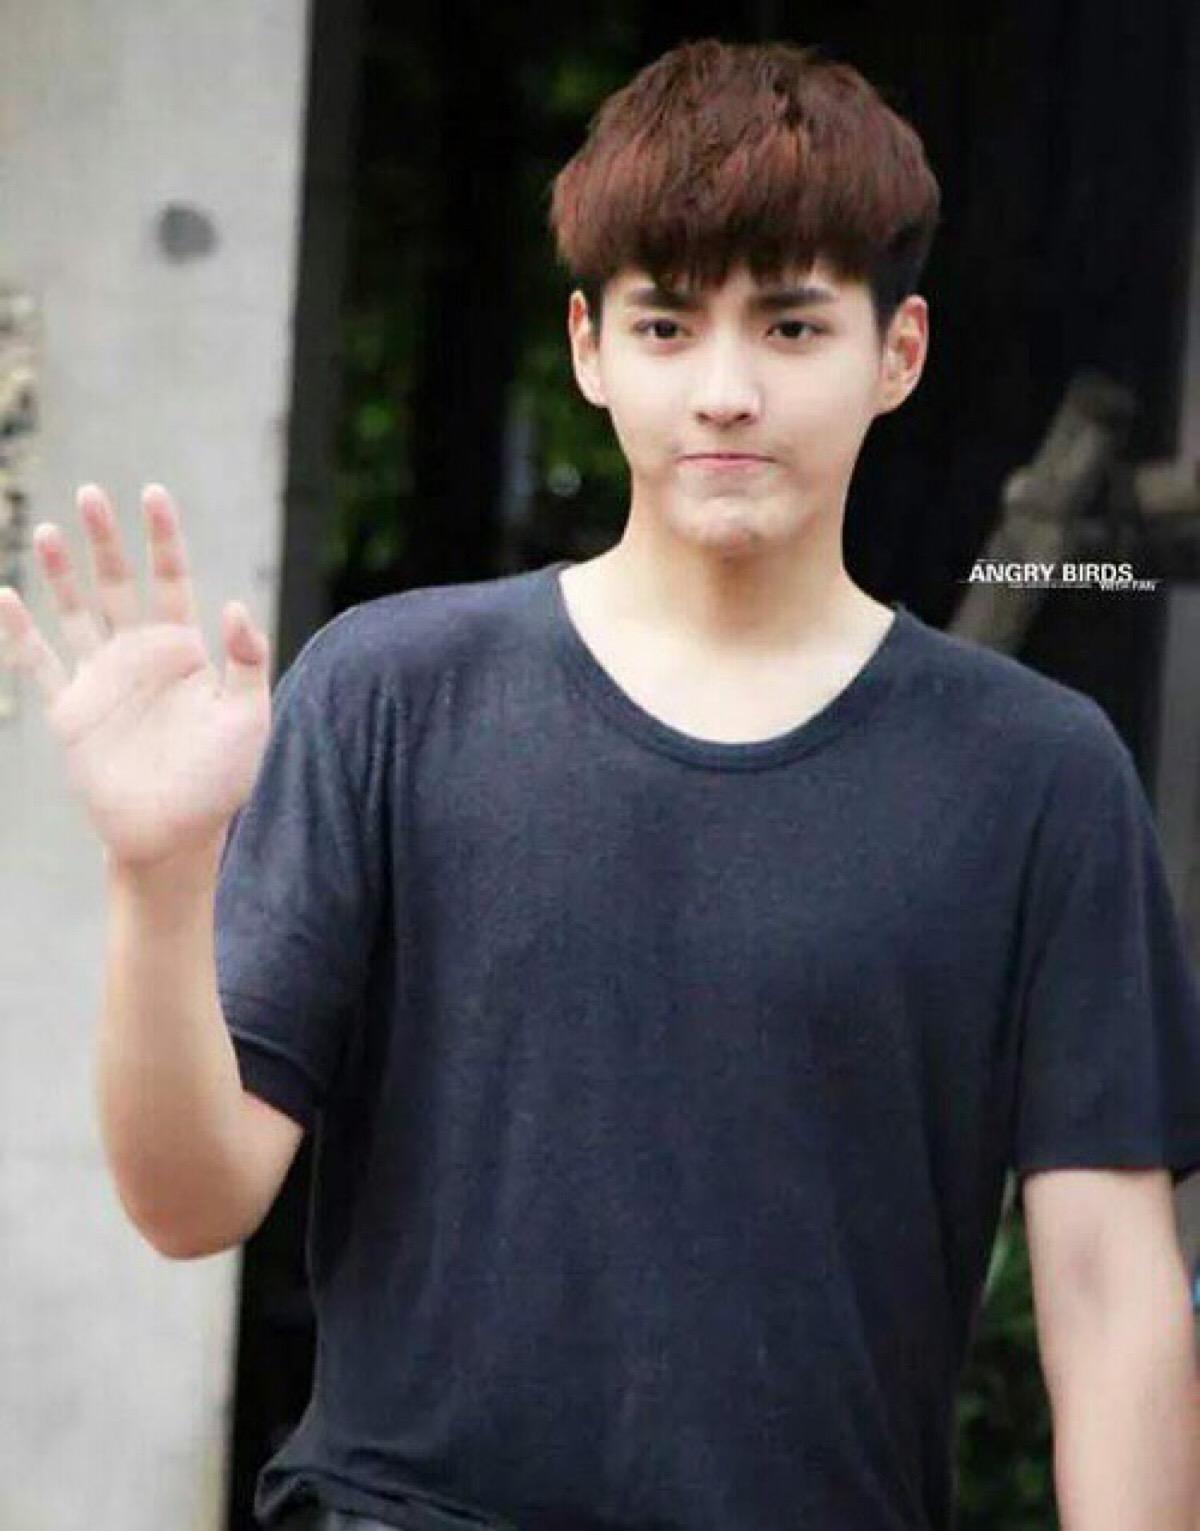person: (311, 58, 1010, 1052)
